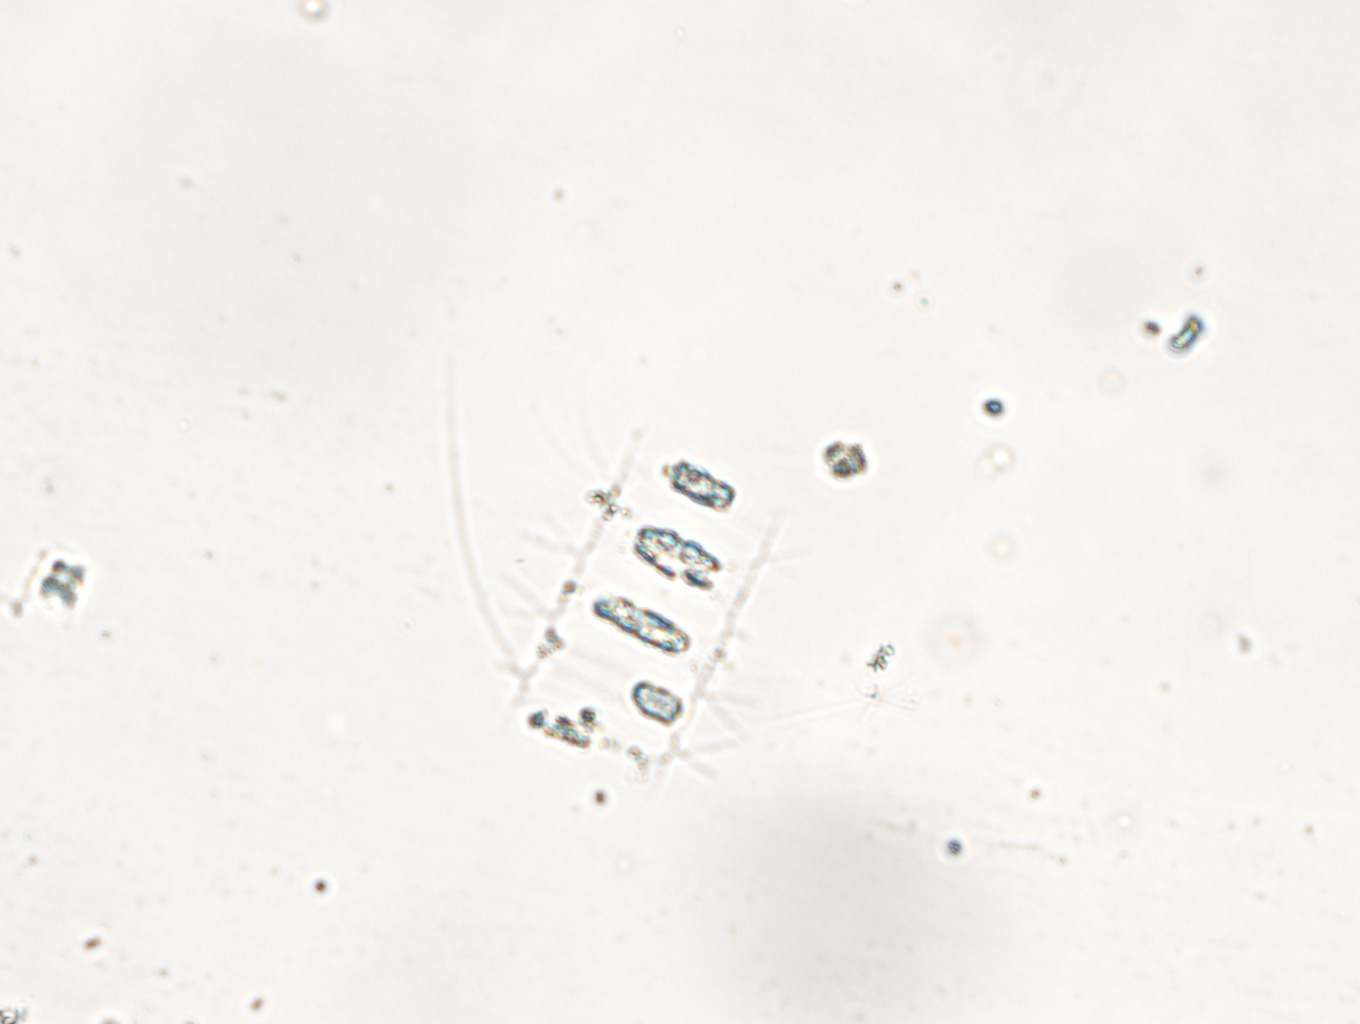chaetoceros: (429, 357, 786, 794)
